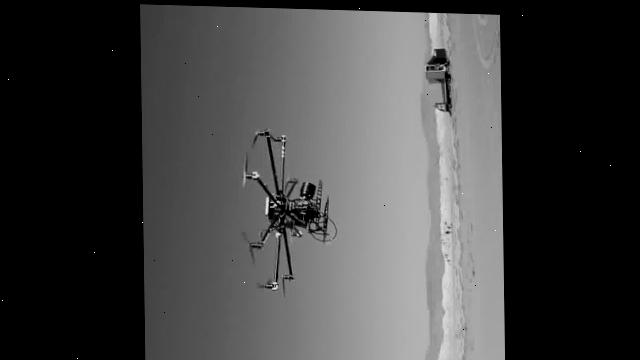drone: (398, 9, 503, 360)
